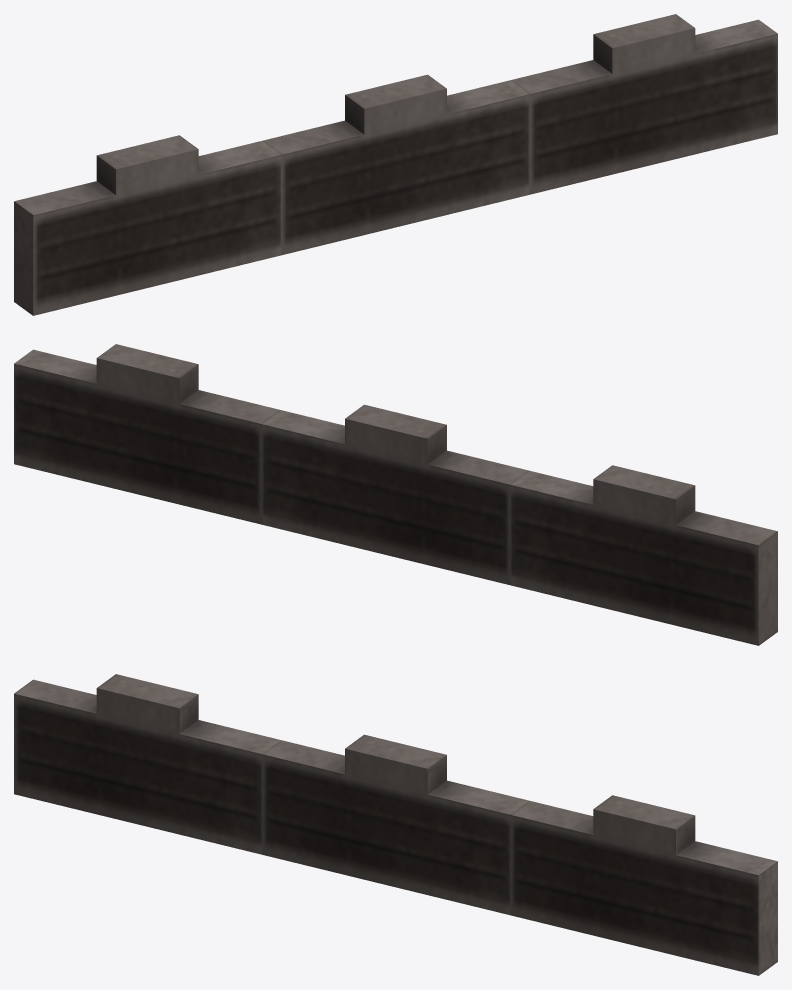
Rendered from B5_TopStand.FBX.
The picture shows the model from 3 angles, top to bottom: view 1: azimuth 30°, elevation 25°; view 2: azimuth 150°, elevation 25°; view 3: azimuth 330°, elevation 25°; orthographic projection.
Parts seen in each view (by area): view 1: B5_TopStand; view 2: B5_TopStand; view 3: B5_TopStand.
Boxes of the visible parts, x1,y1,x2,y2 form: B5_TopStand: (14, 14, 777, 315); B5_TopStand: (14, 344, 777, 645); B5_TopStand: (14, 674, 777, 975).
Bounding box in the file's own units: 12 × 1.94 × 0.5361.
